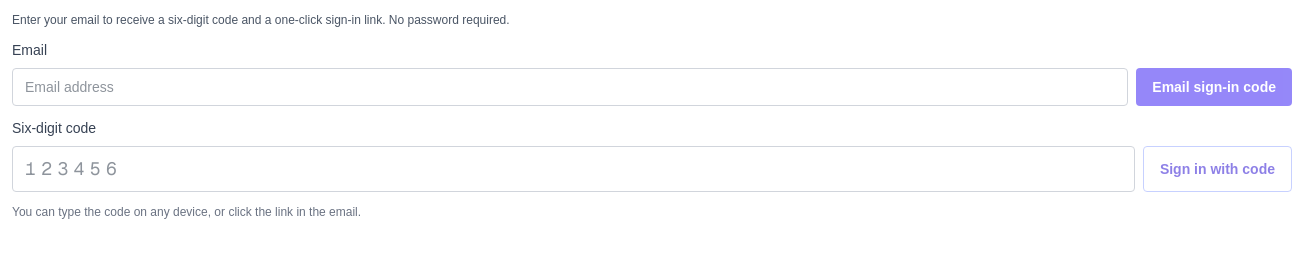
Test case: MagicCodeSignInForm › allows only six numeric digits and submits them with the email
In the field labelled "Email": (570, 87) [12, 68, 1128, 106], type "singer@example.com"
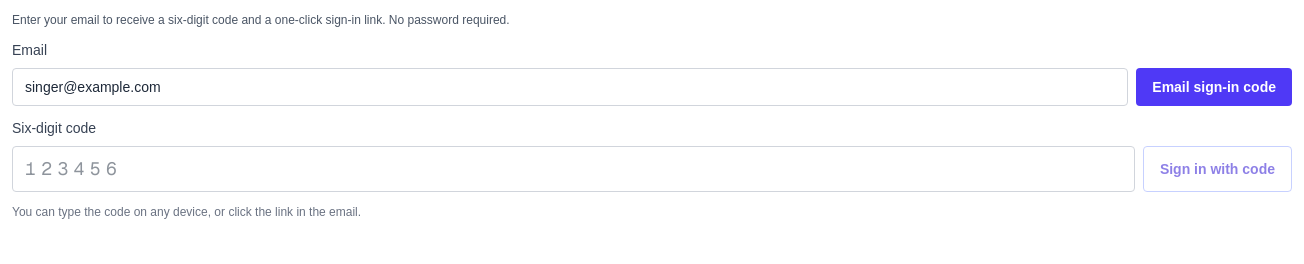
In the field labelled "Six-digit code": (573, 169) [12, 146, 1135, 192], type "12a34567"
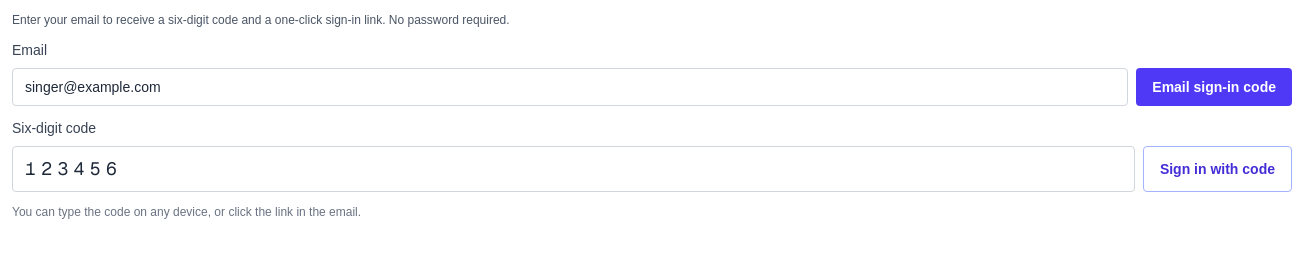
expect the field labelled "Six-digit code" holds "123456": met, box [12, 146, 1135, 192]
Click the button "Sign in with code": (1217, 169) [1143, 146, 1292, 192]
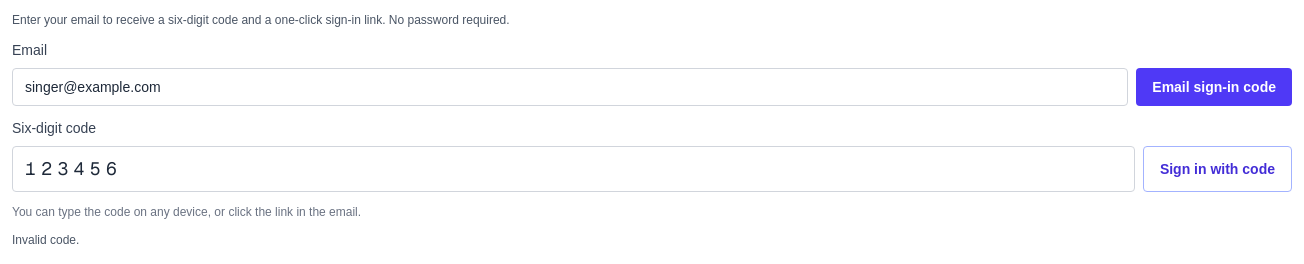
expect the text "Invalid code." is shown: met, box [12, 233, 79, 247]
